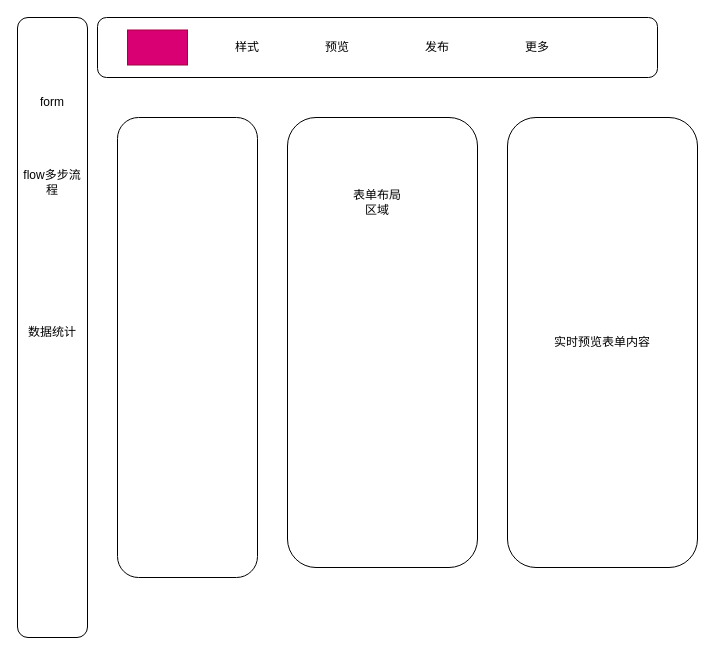
The diagram is 715 pixels wide and 655 high, and some of its shapes have lost their labels. Here are the shapes that lost their labels. From the top down, the centre of each, then its label:
the point at 157,47: form编辑布局*内容
the point at 187,347: 所有表单控件/ 字段名等编辑的内容
